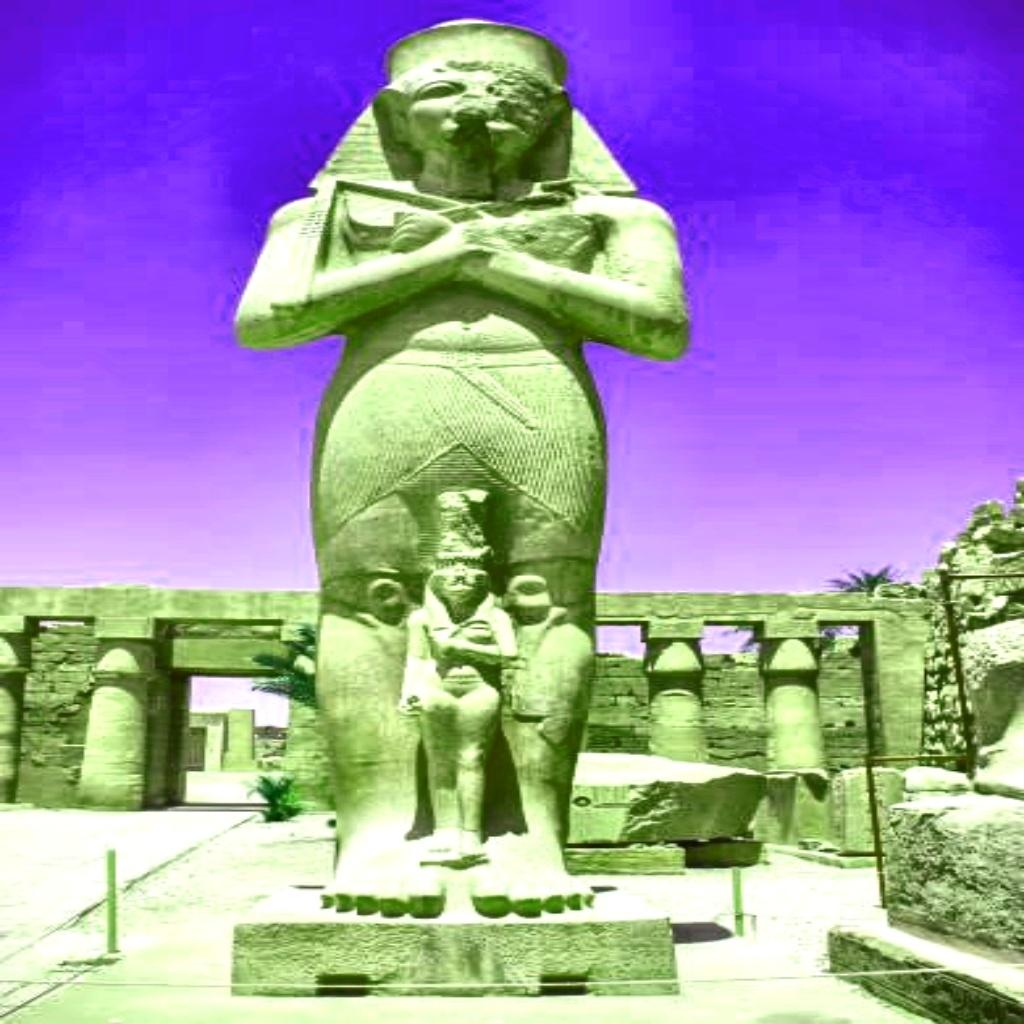Standing Statue of King Ramses II: (228, 16, 696, 918)
